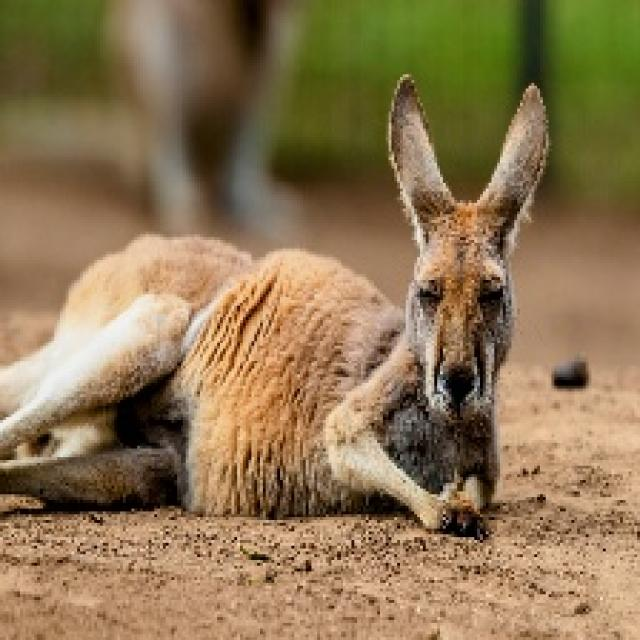bear: (60, 116, 598, 585)
